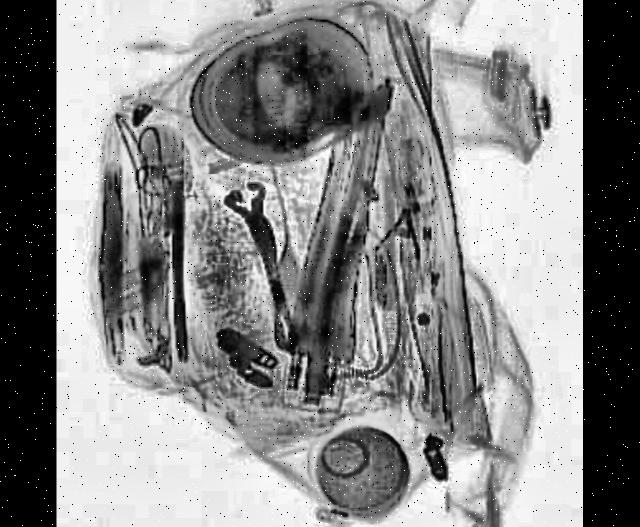Wrench: (222, 179, 309, 360)
